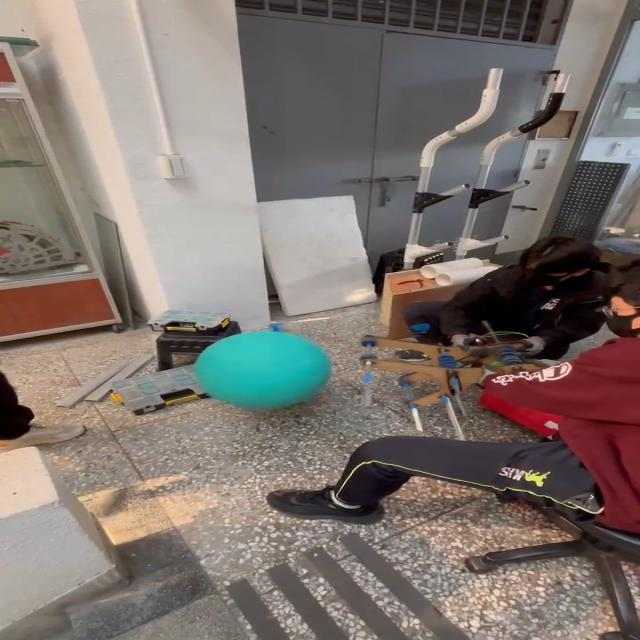ALGAE: (191, 329, 333, 411)
